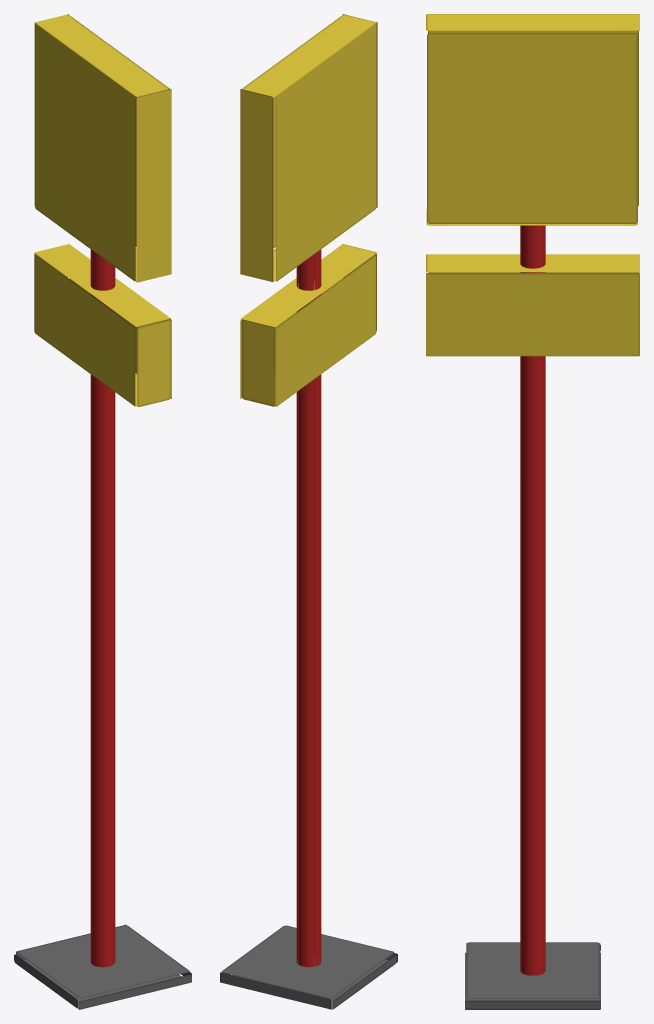
The model's file is Fast Food Sign For Road.fbx.
3 renders of one model, left to right at view 1: azimuth 30°, elevation 25°; view 2: azimuth 150°, elevation 25°; view 3: azimuth 270°, elevation 25°, orthographic. The views are drawn at different scales.
Visible parts, largest first — view 1: Cube.001, Cylinder, Cube; view 2: Cube.001, Cylinder, Cube; view 3: Cube.001, Cylinder, Cube.
Boxes of the visible parts, x1=… form: Cube.001: x1=34, y1=14, x2=171, y2=406; Cylinder: x1=90, y1=249, x2=115, y2=967; Cube: x1=14, y1=924, x2=191, y2=1009; Cube.001: x1=240, y1=14, x2=377, y2=406; Cylinder: x1=296, y1=249, x2=321, y2=967; Cube: x1=220, y1=925, x2=397, y2=1009; Cube.001: x1=426, y1=14, x2=639, y2=356; Cylinder: x1=520, y1=225, x2=545, y2=975; Cube: x1=465, y1=942, x2=600, y2=1009.
Bounding box in the file's own units: 200 × 1553 × 314.
3 materials, 3 textured.
